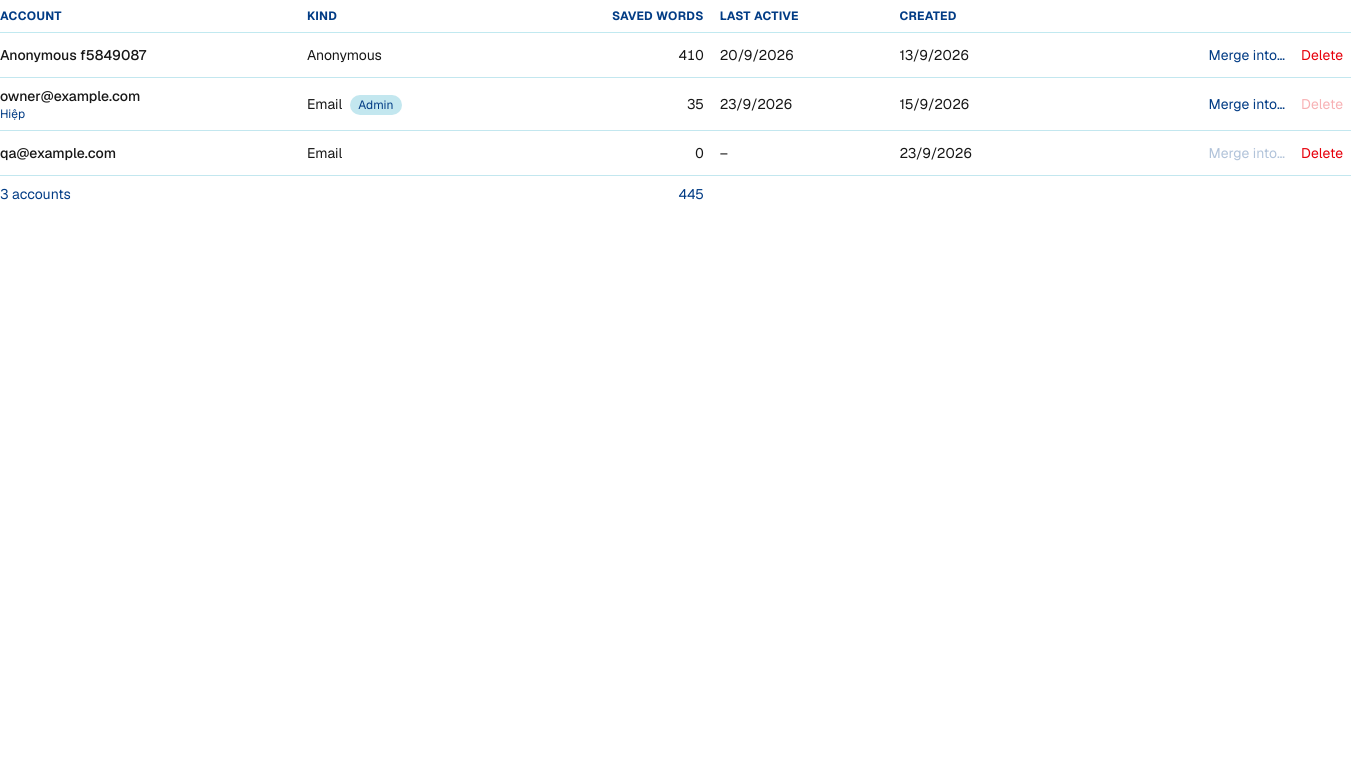
Test: AccountTable › merges into the chosen account and reports what moved
Click the button "Merge into…" in the row of "Anonymous f5849087": (1247, 55) [1201,41,1293,69]
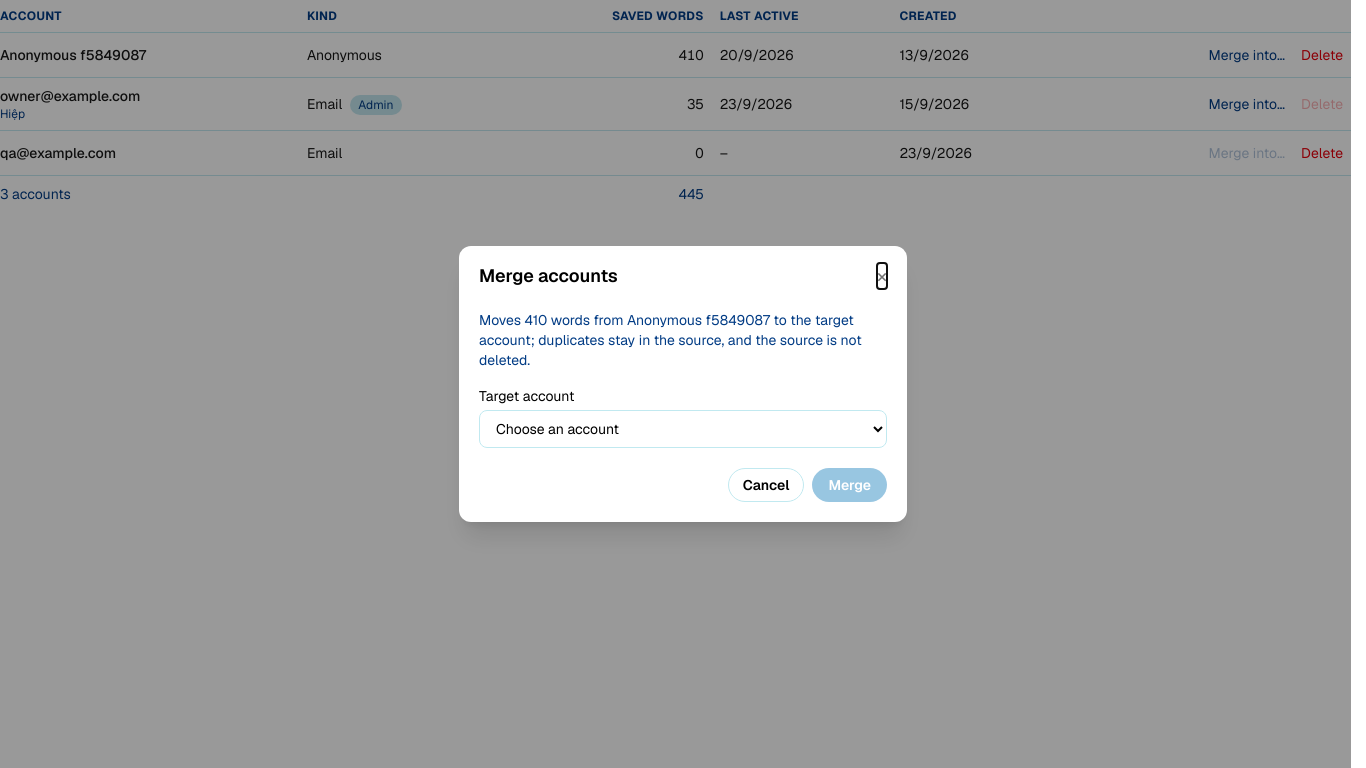
Select "owner@example.com (35 words)" in the dropdown: (683, 429) [479,410,887,448]
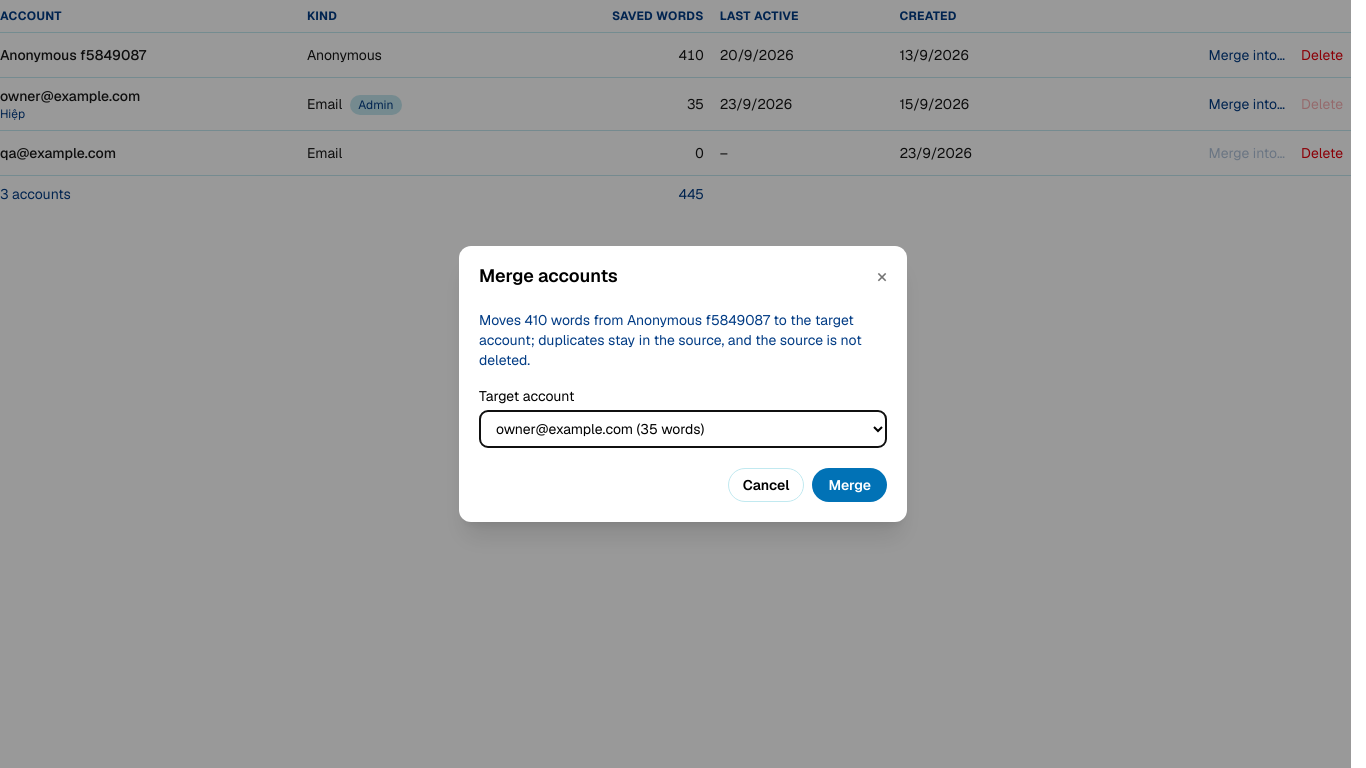
Click the button "Merge": (850, 485) [812,468,887,502]
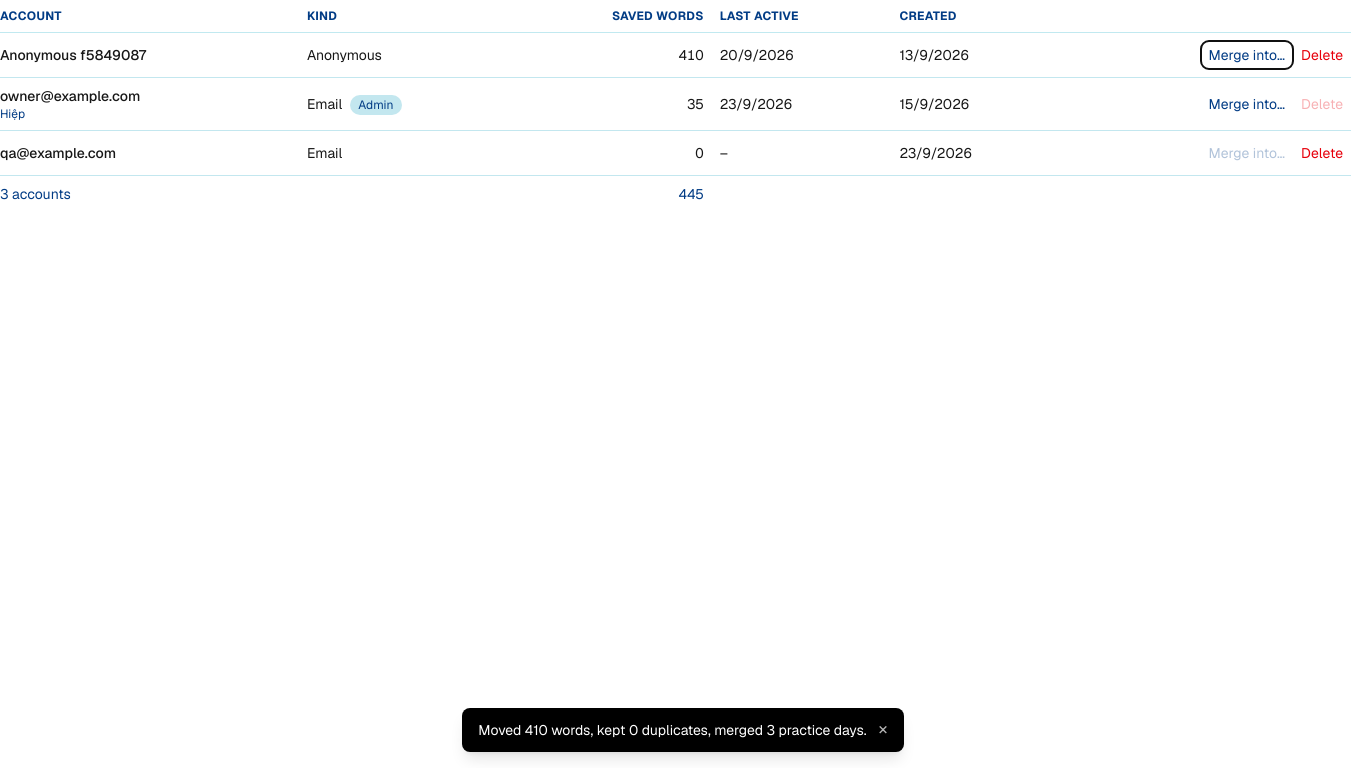
Check: the text "Moved 410 words, kept 0 duplicates, merged 3 practice days." is shown, box [478,720,867,740]
